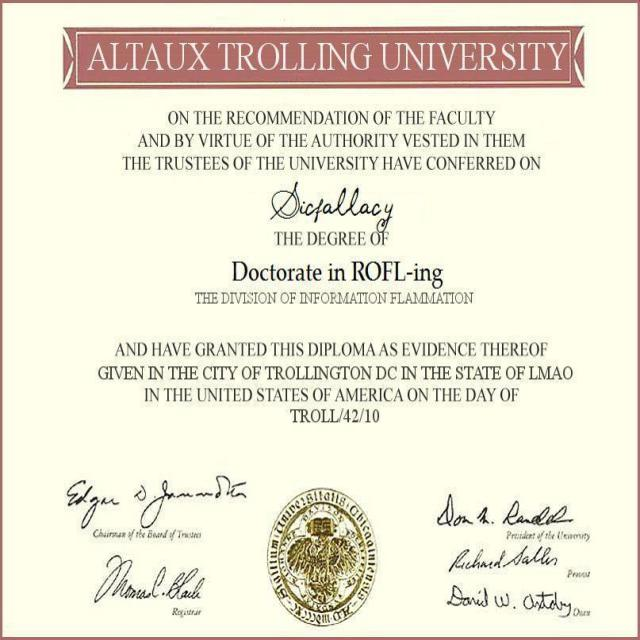signature: (62, 474, 254, 529), (90, 553, 204, 603), (442, 580, 572, 621), (433, 492, 572, 527), (451, 539, 558, 570)
